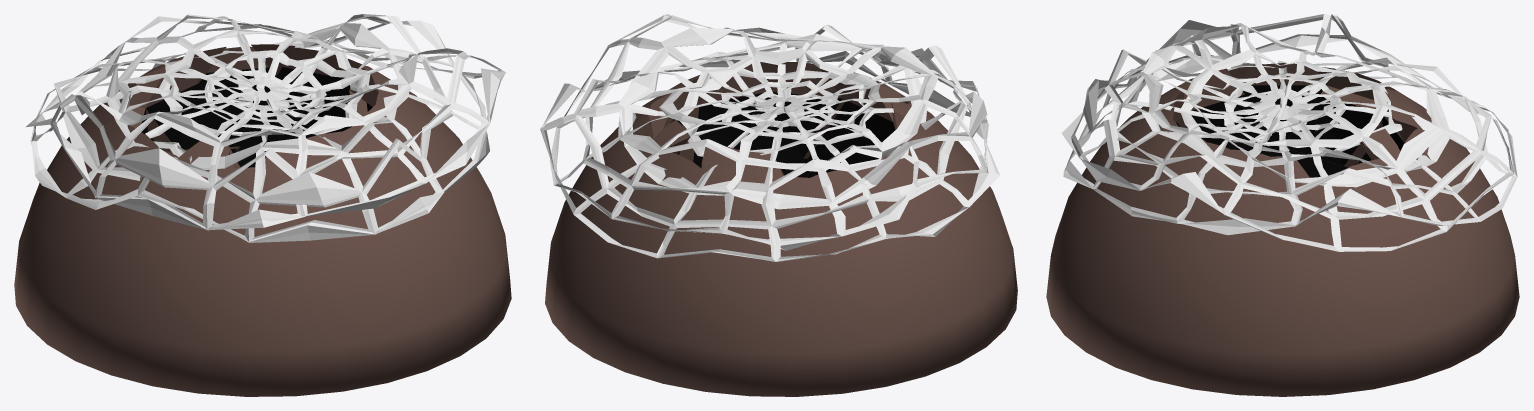
File: ClosedPipe.fbx
The picture shows the model from 3 angles, left to right: view 1: azimuth 30°, elevation 25°; view 2: azimuth 150°, elevation 25°; view 3: azimuth 270°, elevation 25°; orthographic projection. The views are drawn at different scales.
Parts seen in each view (by area): view 1: Web; view 2: Web; view 3: Web.
Part boxes in pixels (x1,y1,x2,y2): Web: (14,14,511,396); Web: (540,14,1017,396); Web: (1046,14,1519,396).
Bounding box in the file's own units: 200 × 102 × 200.
